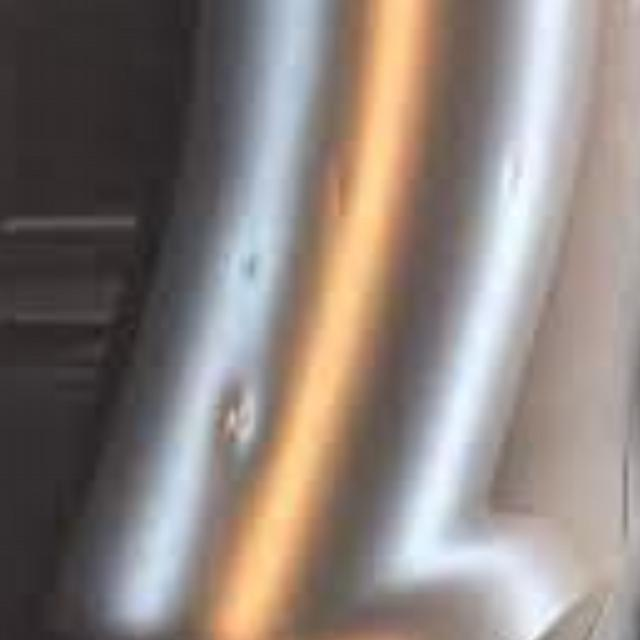dents: (211, 376, 275, 483), (218, 230, 288, 311), (498, 140, 560, 230), (310, 149, 364, 246)
